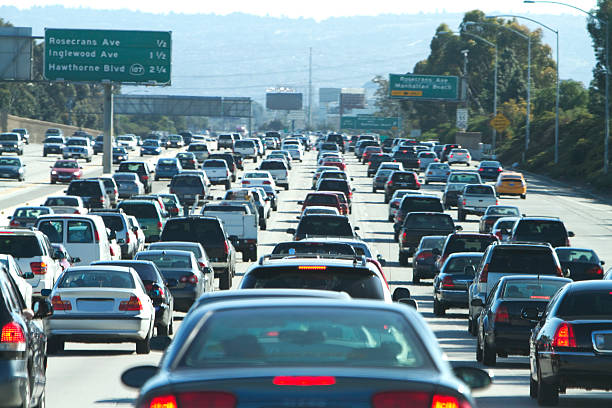car: (141, 300, 478, 408), (531, 281, 612, 407), (50, 264, 151, 355), (470, 247, 565, 330), (484, 279, 573, 365), (1, 264, 49, 406), (165, 217, 234, 286), (142, 248, 202, 304), (39, 214, 104, 265), (1, 231, 51, 296), (207, 203, 258, 263), (437, 258, 483, 315), (401, 212, 457, 257), (115, 196, 164, 239), (293, 214, 351, 249), (558, 246, 602, 283), (413, 237, 449, 278), (171, 172, 205, 211), (9, 204, 49, 236), (457, 185, 495, 218), (69, 179, 106, 210), (449, 171, 481, 206), (202, 159, 231, 192), (258, 159, 289, 189), (114, 171, 146, 200), (301, 193, 339, 217), (43, 196, 86, 217), (497, 170, 525, 202), (386, 170, 419, 196), (483, 206, 518, 230), (321, 178, 350, 206), (391, 150, 421, 177), (51, 159, 80, 185), (242, 171, 272, 196), (63, 137, 91, 162), (1, 155, 24, 181), (424, 162, 450, 185), (232, 140, 258, 162), (424, 163, 449, 185), (1, 132, 23, 155), (155, 158, 178, 180), (477, 162, 502, 180), (363, 144, 384, 165), (43, 137, 65, 156), (449, 149, 472, 167), (187, 142, 207, 162), (371, 169, 392, 187), (282, 143, 301, 162), (175, 152, 196, 169), (328, 136, 346, 153), (142, 139, 158, 158), (216, 134, 235, 149), (165, 135, 183, 149), (421, 151, 437, 166), (265, 136, 276, 149)
